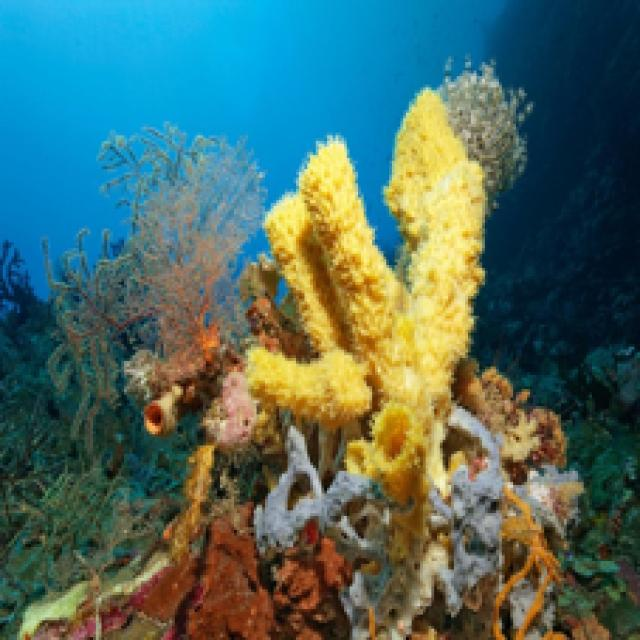Healthy: (24, 415, 523, 638), (252, 88, 483, 500), (60, 125, 266, 356), (438, 63, 531, 207)
